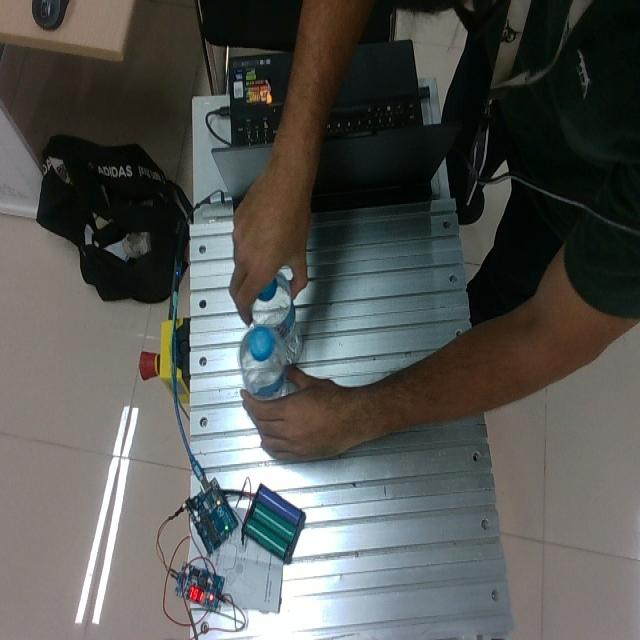lavie: (248, 268, 301, 367), (238, 326, 289, 406)
